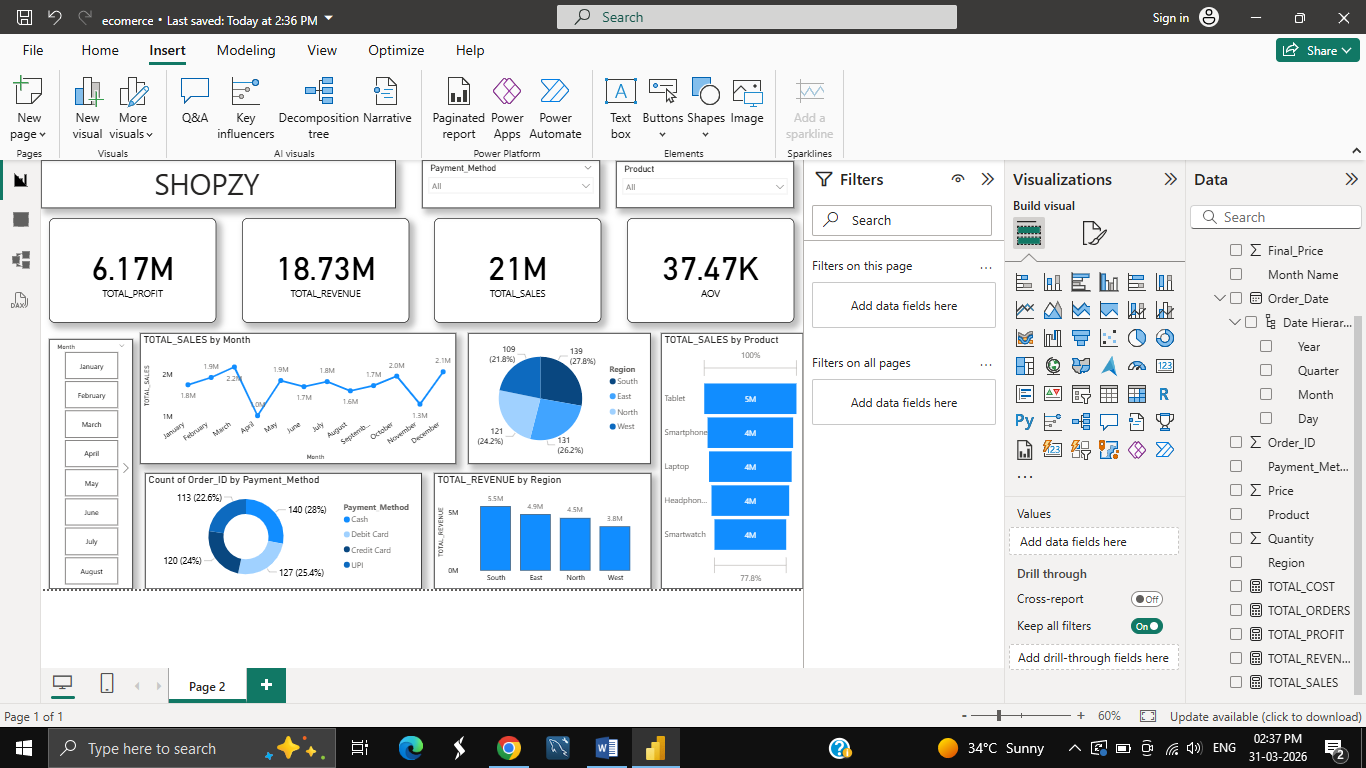

This screenshot's page, from the dashboard's own definition file:
{"tool":"powerbi","page":{"name":"Page 2","canvas":[1280,720],"ordinal":0},"visuals":[{"type":"card","fields":{"Values":["ecommerce_ba_dataset_500_rows.TOTAL_PROFIT"]},"box":[13.4,97.4,280.5,176.4],"z":0},{"type":"card","fields":{"Values":["ecommerce_ba_dataset_500_rows.TOTAL_REVENUE"]},"box":[337.6,97.4,280.5,176.4],"z":1000},{"type":"card","fields":{"Values":["ecommerce_ba_dataset_500_rows.TOTAL_SALES"]},"box":[660.2,97.4,280.5,176.4],"z":2000},{"type":"card","fields":{"Values":["ecommerce_ba_dataset_500_rows.AOV"]},"box":[984.4,97.4,280.5,176.4],"z":3000},{"type":"slicer","fields":{"Values":["ecommerce_ba_dataset_500_rows.Order_Date.Variation.Date Hierarchy.Month"]},"box":[13.4,300.7,141.1,419.9],"z":4000},{"type":"clusteredColumnChart","fields":{"Category":["ecommerce_ba_dataset_500_rows.Region"],"Y":["ecommerce_ba_dataset_500_rows.TOTAL_REVENUE"]},"box":[660.2,525.8,364.5,194.9],"z":5000},{"type":"pieChart","fields":{"Y":["CountNonNull(ecommerce_ba_dataset_500_rows.Payment_Method)"],"Category":["ecommerce_ba_dataset_500_rows.Region"]},"box":[717.3,290.6,307.4,220.1],"z":6000},{"type":"donutChart","fields":{"Y":["CountNonNull(ecommerce_ba_dataset_500_rows.Order_ID)"],"Category":["ecommerce_ba_dataset_500_rows.Payment_Method"]},"box":[174.7,525.8,465.3,194.9],"z":7000},{"type":"lineChart","fields":{"Category":["ecommerce_ba_dataset_500_rows.Order_Date.Variation.Date Hierarchy.Month"],"Y":["ecommerce_ba_dataset_500_rows.TOTAL_SALES"]},"box":[166.3,290.6,530.8,220.1],"z":8000},{"type":"funnel","fields":{"Category":["ecommerce_ba_dataset_500_rows.Product"],"Y":["ecommerce_ba_dataset_500_rows.TOTAL_SALES"]},"box":[1041.5,290.6,238.5,430],"z":9000},{"type":"textbox","box":[0,0,596.3,80.6],"z":10000},{"type":"slicer","fields":{"Values":["ecommerce_ba_dataset_500_rows.Product"]},"box":[965.9,1.7,299,79],"z":11000},{"type":"slicer","fields":{"Values":["ecommerce_ba_dataset_500_rows.Payment_Method"]},"box":[640,0,299,80.6],"z":11001}]}

Visuals, with their boxes on the page's 1280x720 design canvas (x1, y1, x2, y2). These are canvas units, not pixel positions in the 1366x768 screenshot, which may show the page scaled, cropped or inside an application window:
card - ecommerce_ba_dataset_500_rows.TOTAL_PROFIT: bbox(13, 97, 294, 274)
card - ecommerce_ba_dataset_500_rows.TOTAL_REVENUE: bbox(338, 97, 618, 274)
card - ecommerce_ba_dataset_500_rows.TOTAL_SALES: bbox(660, 97, 941, 274)
card - ecommerce_ba_dataset_500_rows.AOV: bbox(984, 97, 1265, 274)
slicer - ecommerce_ba_dataset_500_rows.Order_Date.Variation.Date Hierarchy.Month: bbox(13, 301, 154, 721)
clusteredColumnChart - ecommerce_ba_dataset_500_rows.Region x ecommerce_ba_dataset_500_rows.TOTAL_REVENUE: bbox(660, 526, 1025, 721)
pieChart - CountNonNull(ecommerce_ba_dataset_500_rows.Payment_Method) x ecommerce_ba_dataset_500_rows.Region: bbox(717, 291, 1025, 511)
donutChart - CountNonNull(ecommerce_ba_dataset_500_rows.Order_ID) x ecommerce_ba_dataset_500_rows.Payment_Method: bbox(175, 526, 640, 721)
lineChart - ecommerce_ba_dataset_500_rows.Order_Date.Variation.Date Hierarchy.Month x ecommerce_ba_dataset_500_rows.TOTAL_SALES: bbox(166, 291, 697, 511)
funnel - ecommerce_ba_dataset_500_rows.Product x ecommerce_ba_dataset_500_rows.TOTAL_SALES: bbox(1042, 291, 1280, 721)
textbox: bbox(0, 0, 596, 81)
slicer - ecommerce_ba_dataset_500_rows.Product: bbox(966, 2, 1265, 81)
slicer - ecommerce_ba_dataset_500_rows.Payment_Method: bbox(640, 0, 939, 81)
